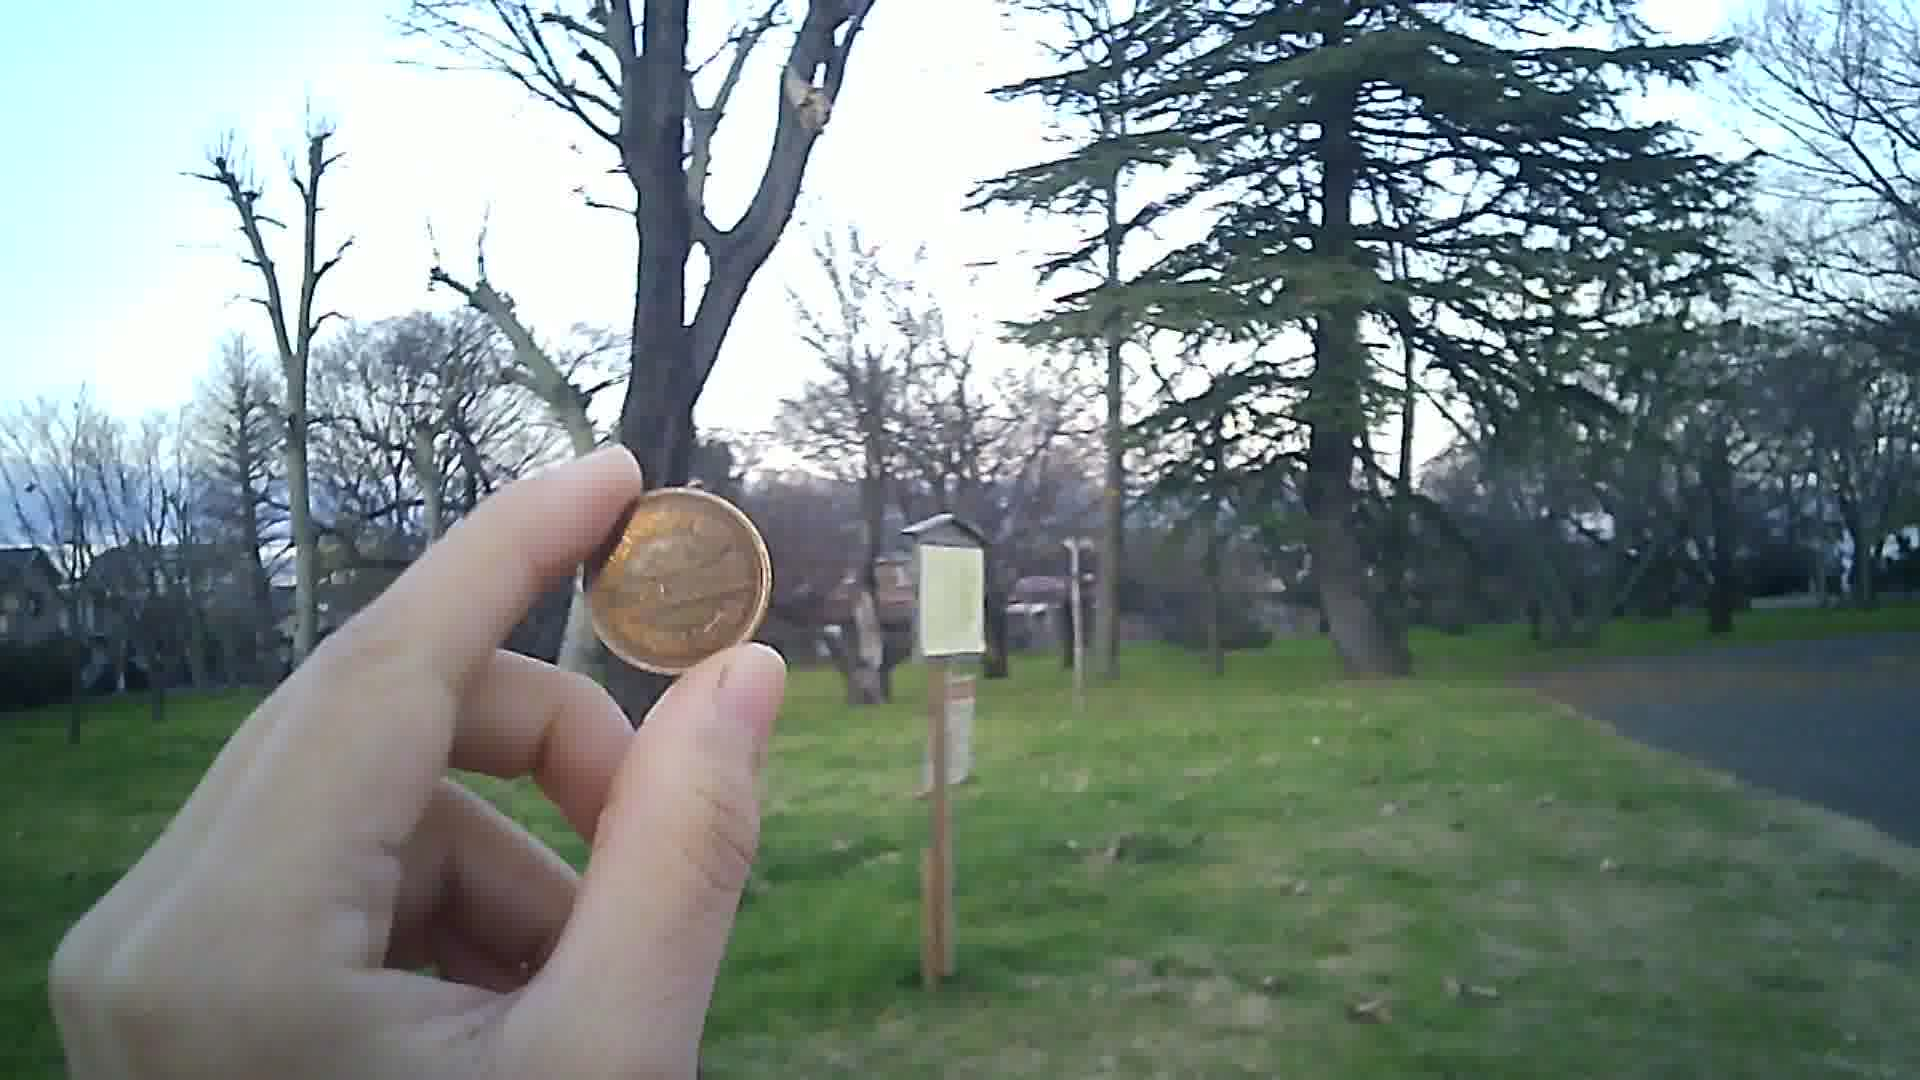10 Yen: (575, 488, 773, 680)
